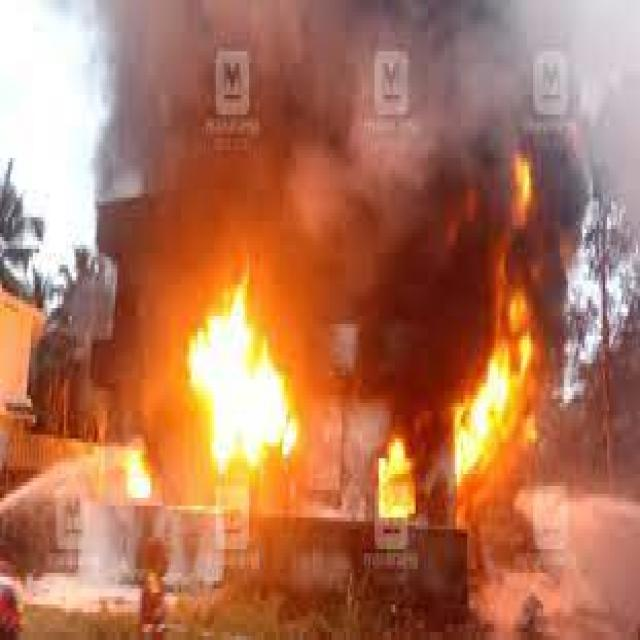fire: (452, 162, 552, 506), (179, 261, 300, 474), (376, 431, 416, 514)
smoke: (82, 4, 451, 269), (358, 182, 488, 442), (506, 126, 589, 395)
